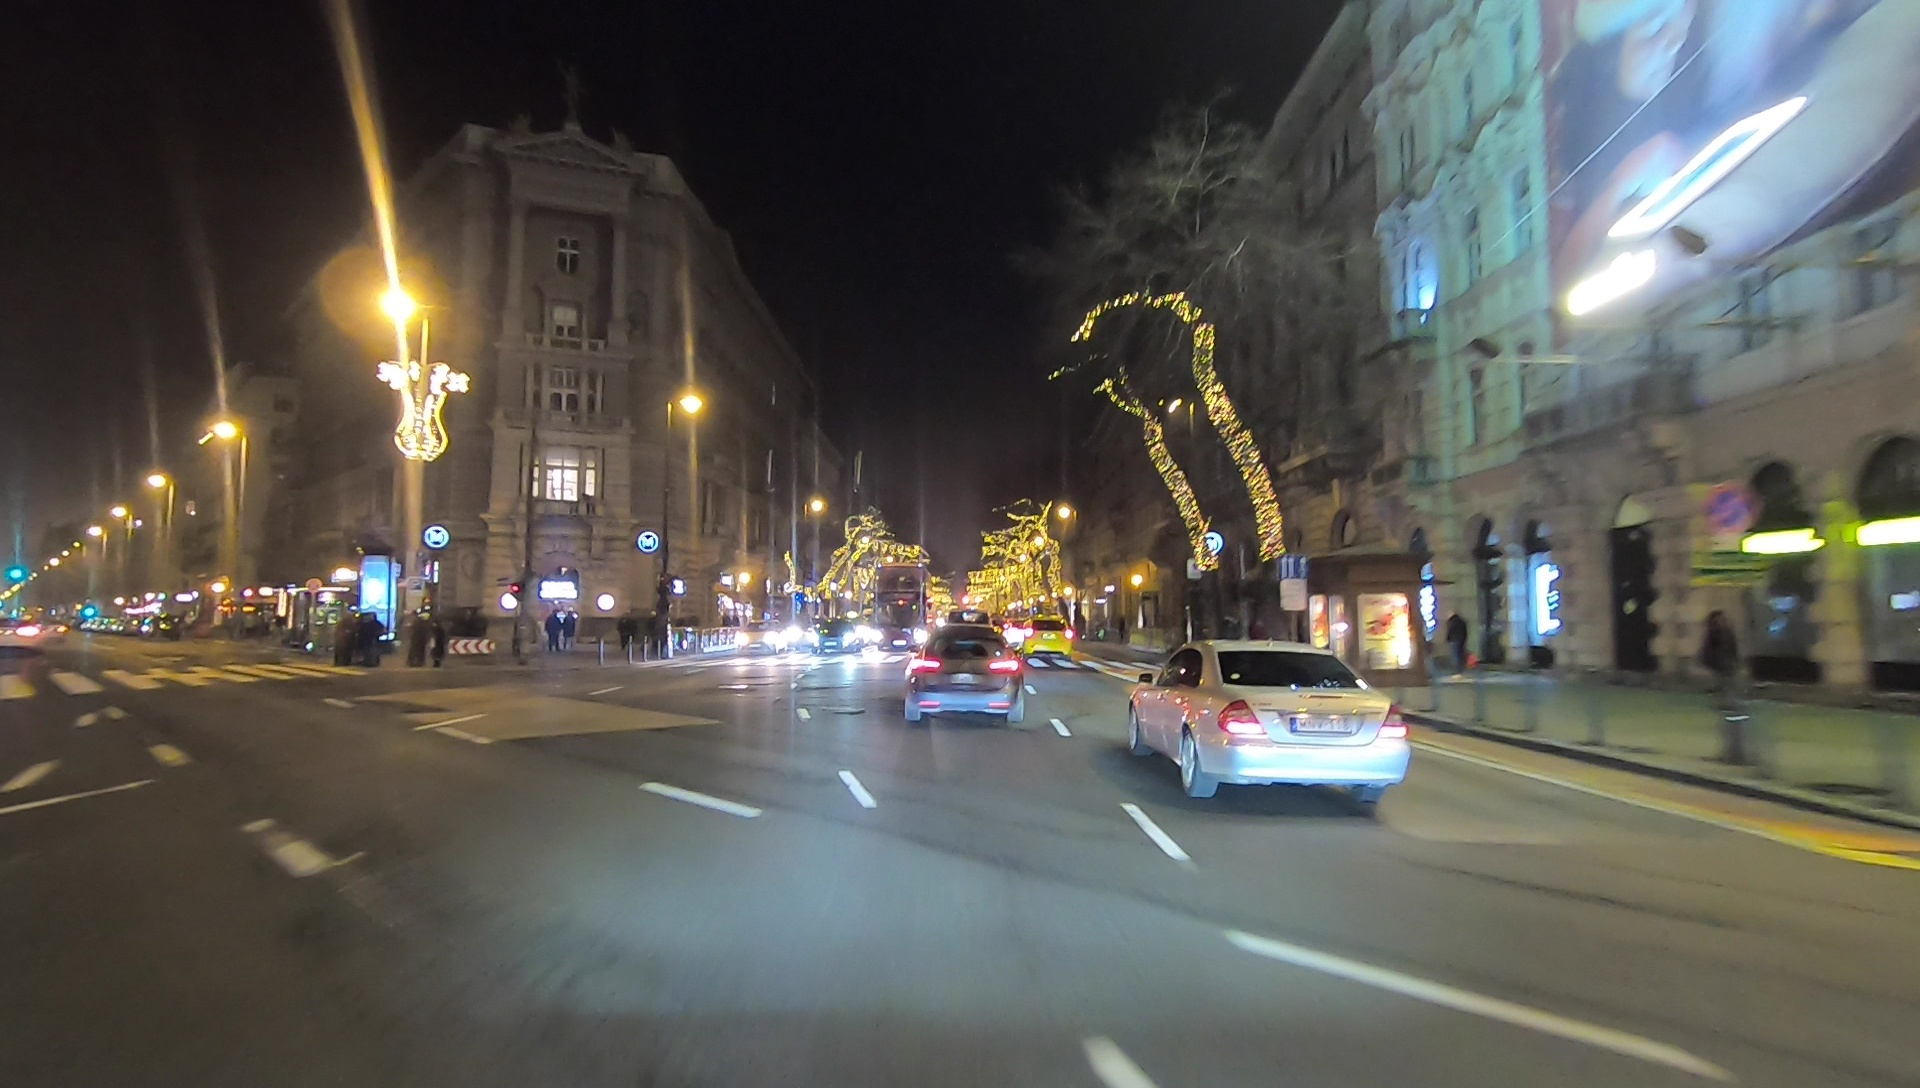person: (1697, 613, 1738, 719), (1445, 615, 1465, 676), (545, 608, 562, 650), (564, 611, 576, 654)
